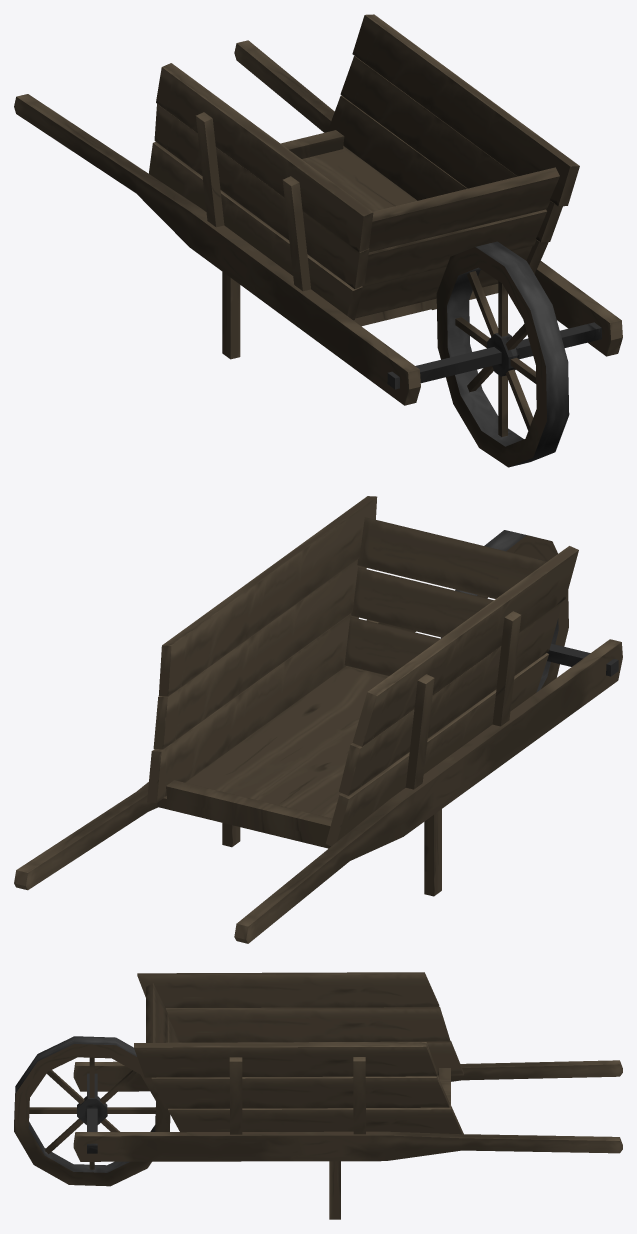
File: Wheelbarrow01.fbx
The picture shows the model from 3 angles, top to bottom: view 1: azimuth 30°, elevation 25°; view 2: azimuth 150°, elevation 25°; view 3: azimuth 270°, elevation 25°; orthographic projection. The views are drawn at different scales.
Visible parts, largest first — view 1: Wheelbarrow01_LOD0, Wheel01_LOD0; view 2: Wheelbarrow01_LOD0, Wheel01_LOD0; view 3: Wheelbarrow01_LOD0, Wheel01_LOD0.
Part boxes in pixels (x1,y1,x2,y2): Wheelbarrow01_LOD0: (14, 14, 622, 405); Wheel01_LOD0: (387, 241, 601, 467); Wheelbarrow01_LOD0: (14, 496, 622, 943); Wheel01_LOD0: (441, 530, 618, 692); Wheelbarrow01_LOD0: (73, 972, 622, 1219); Wheel01_LOD0: (14, 1036, 170, 1186).
Size of what is drawn, in the model's own units: 52.46 by 53.04 by 167.
